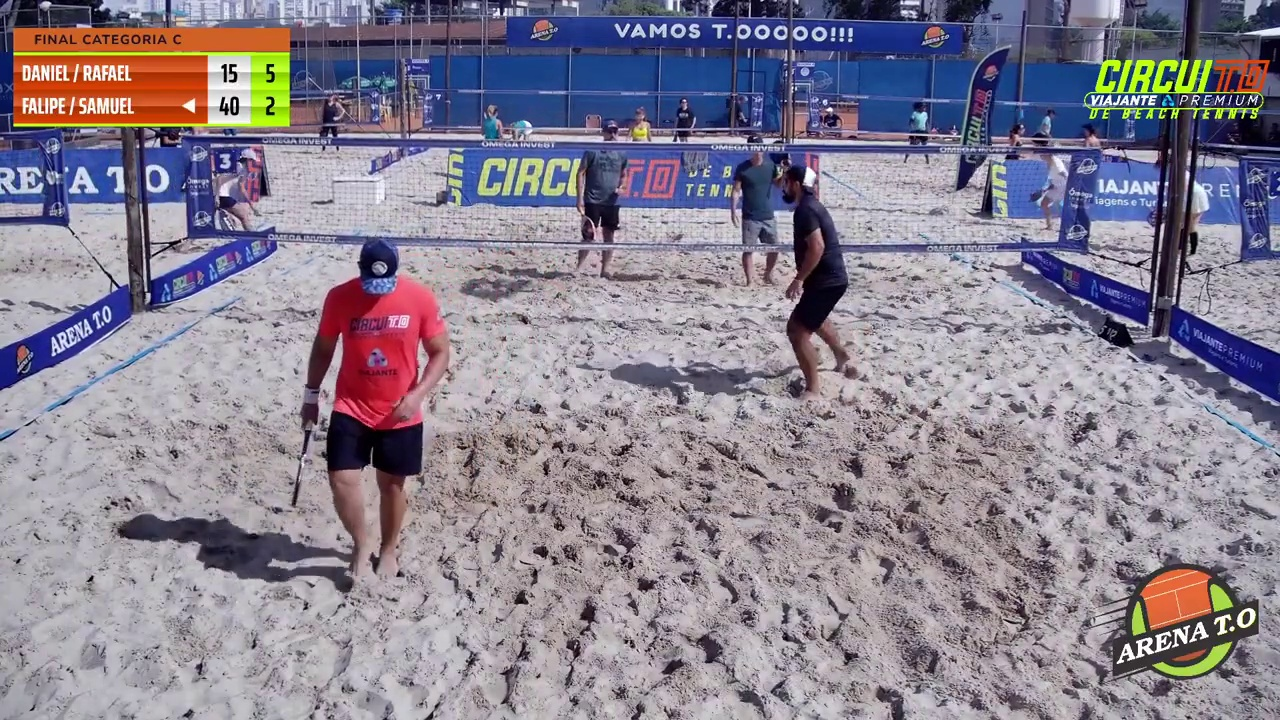court_line: (560, 0, 677, 518)
